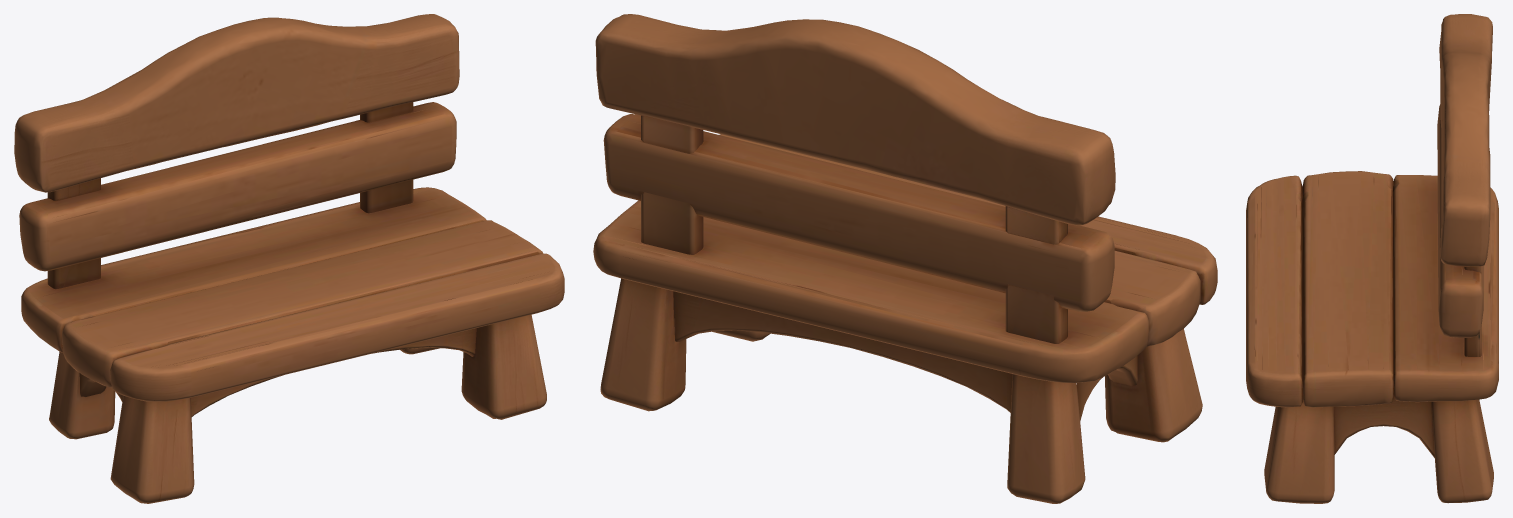
The model's file is park-bench.glb.
3 renders of one model, left to right at view 1: azimuth 30°, elevation 25°; view 2: azimuth 150°, elevation 25°; view 3: azimuth 270°, elevation 25°, orthographic. The views are drawn at different scales.
Parts seen in each view (by area): view 1: Park Bench; view 2: Park Bench; view 3: Park Bench.
Boxes of the visible parts, x1,y1,x2,y2 form: Park Bench: (14, 14, 564, 503); Park Bench: (593, 14, 1217, 503); Park Bench: (1246, 14, 1498, 503).
Bounding box in the file's own units: 0.998 × 0.7676 × 0.5137.
1 material, 1 textured.
